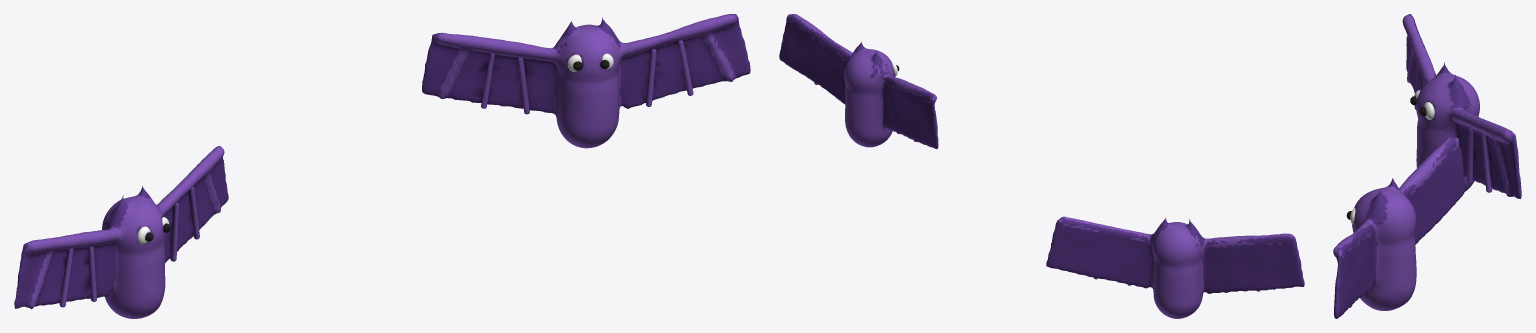
Rendered from jag-har-tva-barn.glb.
3 renders of one model, left to right at view 1: azimuth 30°, elevation 25°; view 2: azimuth 150°, elevation 25°; view 3: azimuth 270°, elevation 25°, orthographic. The views are drawn at different scales.
Parts seen in each view (by area): view 1: morcego2__r0, morcego1__r0; view 2: morcego1__r0, morcego2__r0; view 3: morcego2__r0, morcego1__r0, morcego1__r5, morcego1__r4, morcego1__r1, morcego1__r10.
Boxes of the visible parts, <box> form: morcego2__r0: <box>422,14,750,148</box>; morcego1__r0: <box>14,146,228,318</box>; morcego1__r0: <box>1046,216,1304,318</box>; morcego2__r0: <box>779,14,938,149</box>; morcego2__r0: <box>1333,137,1464,318</box>; morcego1__r0: <box>1402,14,1521,198</box>; morcego1__r5: <box>1481,132,1492,192</box>; morcego1__r4: <box>1466,127,1474,183</box>; morcego1__r1: <box>1424,102,1434,119</box>; morcego1__r10: <box>1414,63,1421,109</box>.
Size of the model in its own units: 1.91 by 0.5671 by 0.4454.
